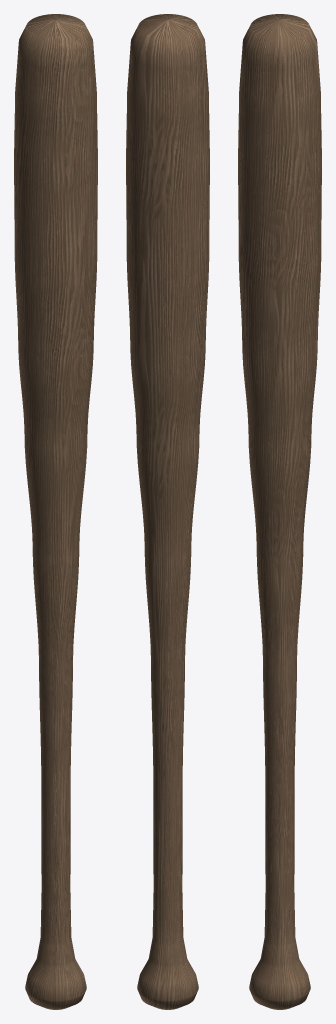
File: bat.glb
3 views of the same model, side by side, from view 1: azimuth 90°, elevation 25°; view 2: azimuth 150°, elevation 25°; view 3: azimuth 270°, elevation 25° (orthographic).
Visible parts, largest first — view 1: bat; view 2: bat; view 3: bat.
Part boxes in pixels (x1,y1,x2,y2): bat: [14, 14, 97, 1009]; bat: [126, 14, 209, 1009]; bat: [238, 14, 321, 1009].
Bounding box in the file's own units: 0.0666 × 0.864 × 0.0666.
Materials: 1 (1 with a texture image).
